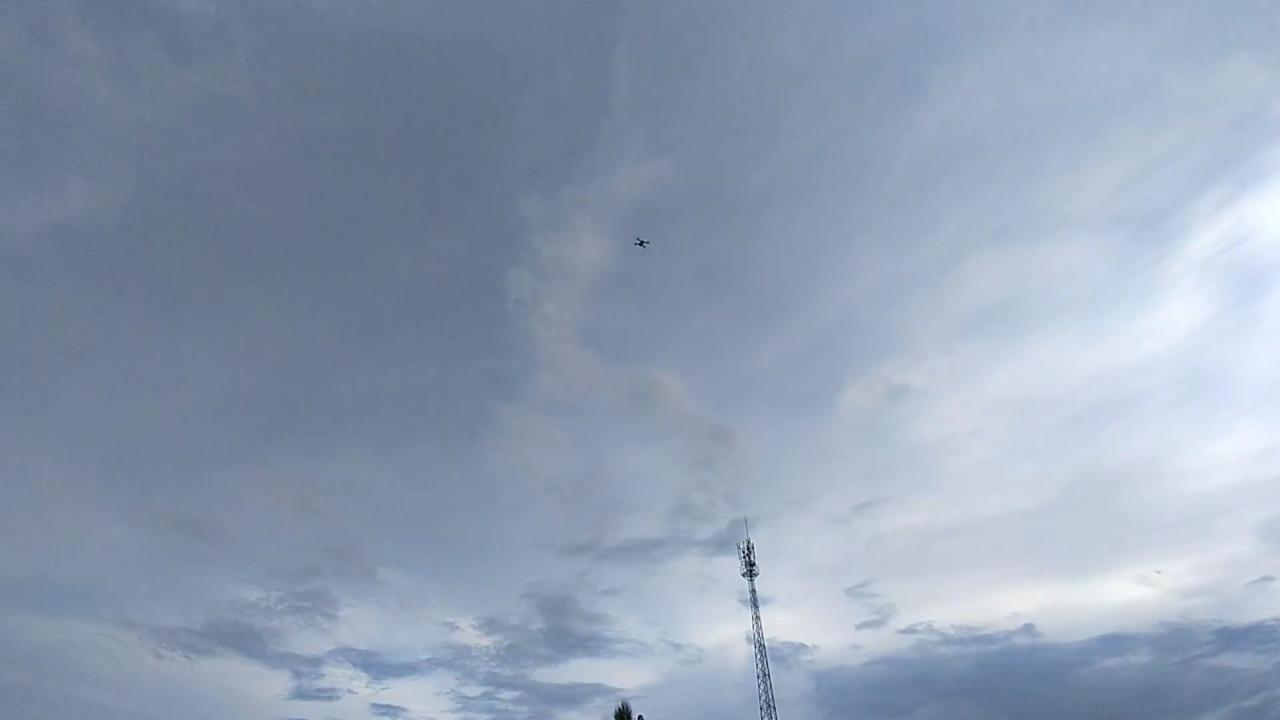Drone: (625, 227, 659, 260)
